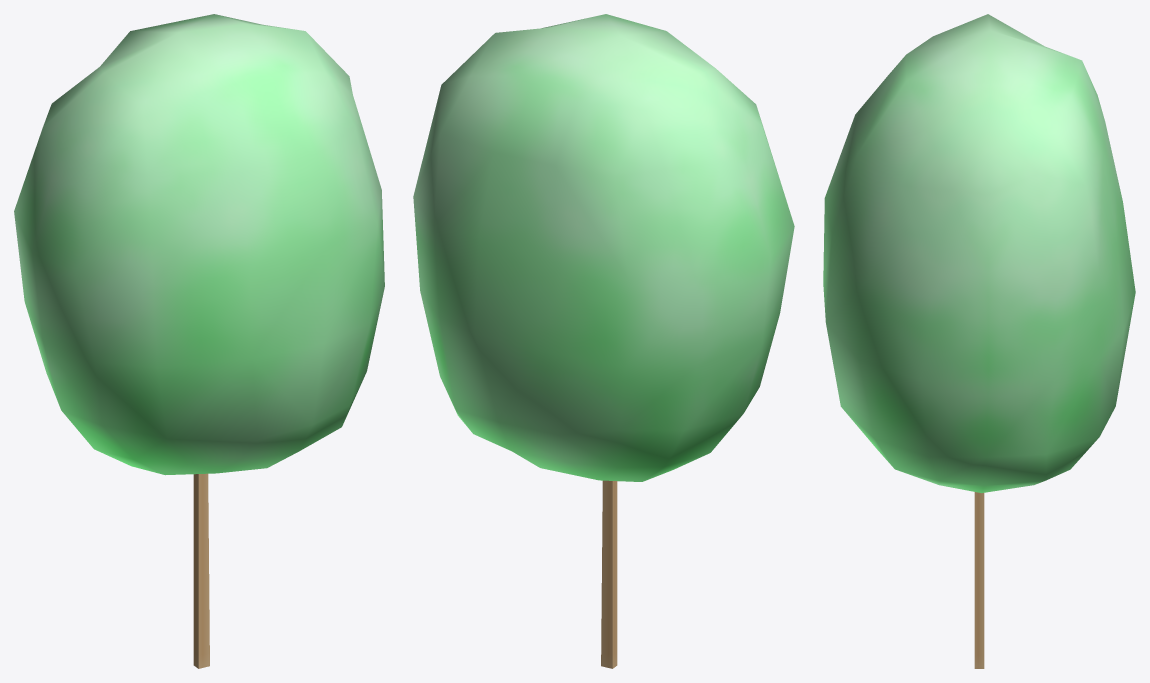
Rendered from jsf_CottonCandy_04S.fbx.
The picture shows the model from 3 angles, left to right: view 1: azimuth 30°, elevation 25°; view 2: azimuth 150°, elevation 25°; view 3: azimuth 270°, elevation 25°; orthographic projection.
Parts seen in each view (by area): view 1: jsf_CottonCandy_04S; view 2: jsf_CottonCandy_04S; view 3: jsf_CottonCandy_04S.
Part boxes in pixels (x1,y1,x2,y2): jsf_CottonCandy_04S: (14, 14, 384, 668); jsf_CottonCandy_04S: (413, 14, 794, 668); jsf_CottonCandy_04S: (823, 14, 1135, 668).
Size of the model in its own units: 16.1 by 29.18 by 13.17.
